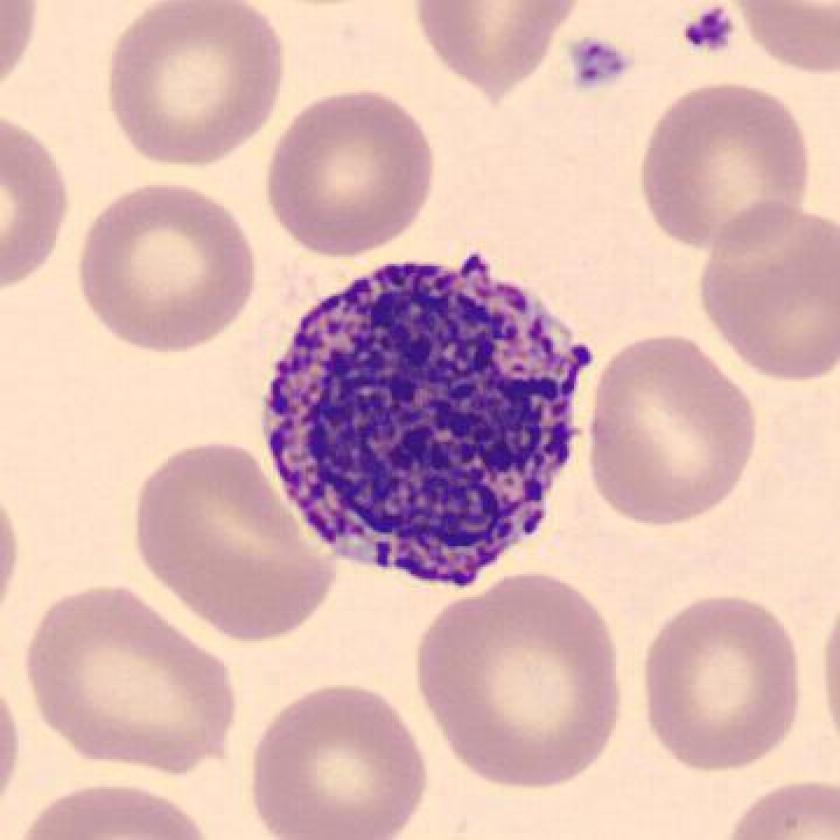basophil: (246, 244, 612, 605)
